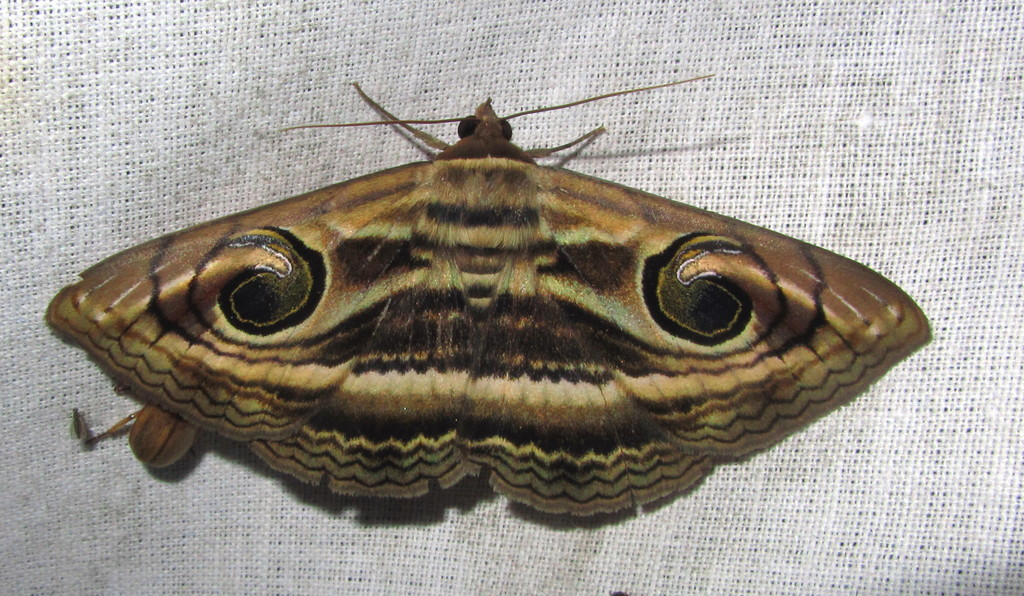Butterfly: (49, 99, 950, 546)
